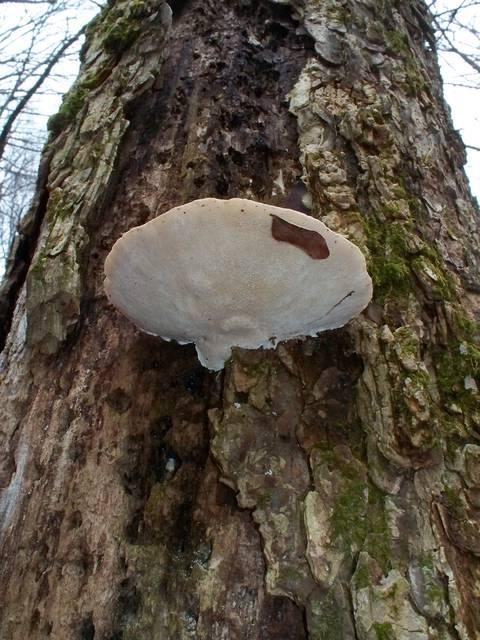Non-edible Mushroom: (101, 195, 374, 373)
